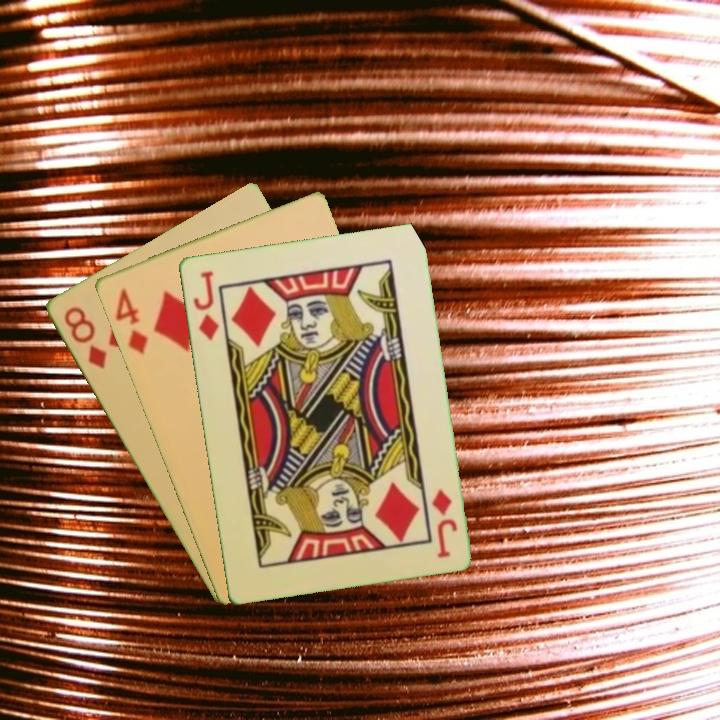4d: (111, 284, 151, 358)
8d: (59, 302, 110, 372)
Jd: (189, 267, 222, 342), (428, 485, 460, 561)
